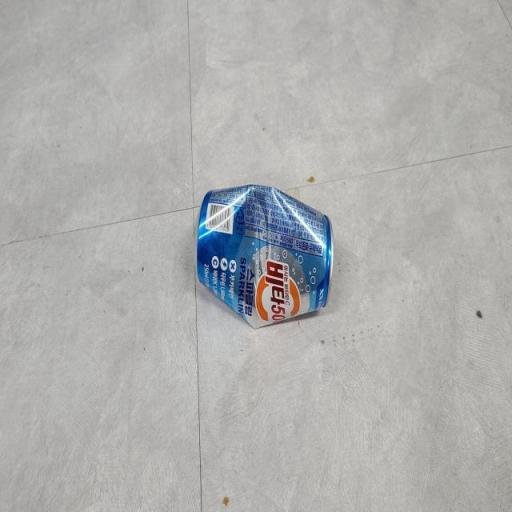metal: (179, 153, 345, 344)
